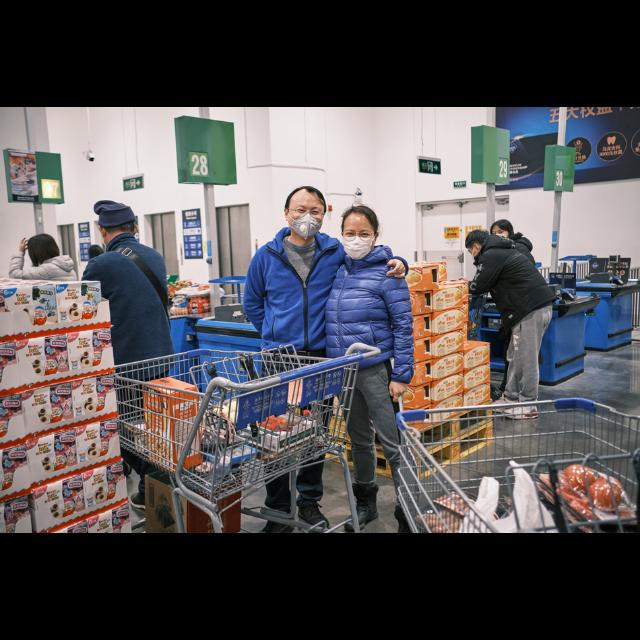masks: (286, 212, 324, 242), (339, 232, 376, 262)
